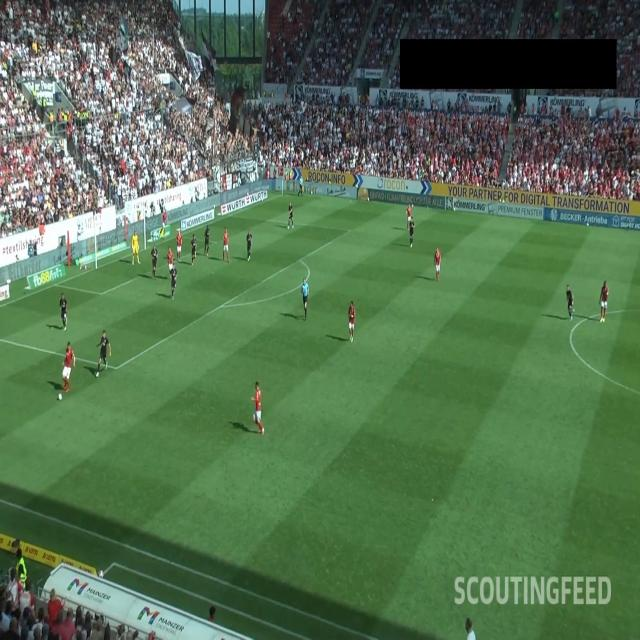ball: (58, 393, 62, 401)
